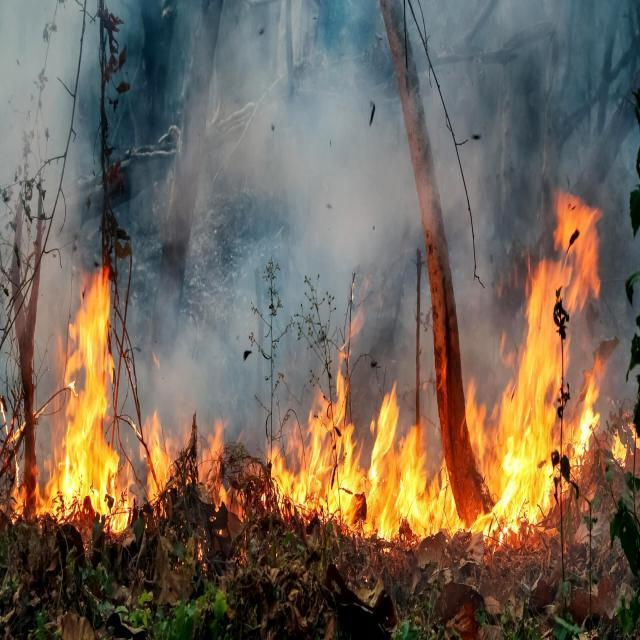Fire: (146, 370, 489, 546), (492, 185, 633, 570), (51, 253, 142, 536), (0, 376, 50, 528)
Smoke: (2, 6, 640, 342)
